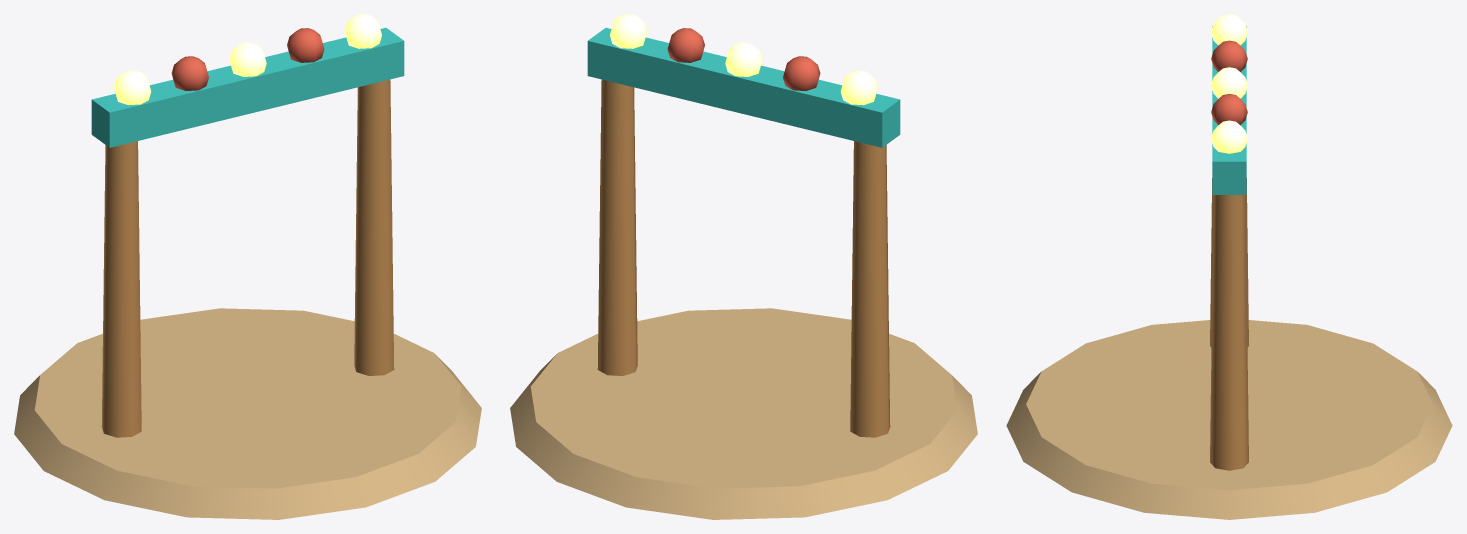
The model's file is photo-spot.glb.
The picture shows the model from 3 angles, left to right: view 1: azimuth 30°, elevation 25°; view 2: azimuth 150°, elevation 25°; view 3: azimuth 270°, elevation 25°; orthographic projection. The views are drawn at different scales.
Visible parts, largest first — view 1: Mesh_sandStone, Mesh_lightWood, Mesh_turquoise, Mesh_glowWarm, Mesh_coral; view 2: Mesh_sandStone, Mesh_lightWood, Mesh_turquoise, Mesh_glowWarm, Mesh_coral; view 3: Mesh_sandStone, Mesh_lightWood, Mesh_glowWarm, Mesh_turquoise, Mesh_coral.
Part boxes in pixels (bbox=[...]): Mesh_sandStone: bbox=[14, 308, 481, 519]; Mesh_lightWood: bbox=[101, 79, 394, 437]; Mesh_turquoise: bbox=[91, 27, 404, 147]; Mesh_glowWarm: bbox=[114, 14, 381, 105]; Mesh_coral: bbox=[171, 28, 324, 90]; Mesh_sandStone: bbox=[510, 308, 977, 519]; Mesh_lightWood: bbox=[597, 79, 890, 437]; Mesh_turquoise: bbox=[587, 27, 900, 147]; Mesh_glowWarm: bbox=[610, 14, 877, 105]; Mesh_coral: bbox=[667, 28, 820, 90]; Mesh_sandStone: bbox=[1006, 320, 1452, 519]; Mesh_lightWood: bbox=[1210, 178, 1248, 470]; Mesh_glowWarm: bbox=[1211, 14, 1247, 153]; Mesh_turquoise: bbox=[1212, 26, 1246, 194]; Mesh_coral: bbox=[1211, 40, 1247, 125].
Size of the model in its own units: 3.4 by 3 by 3.4.
